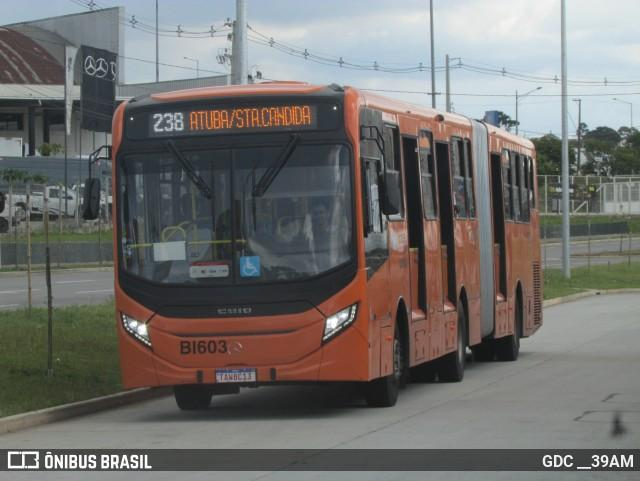ATUBA STACANDIDA: (186, 103, 315, 133)
